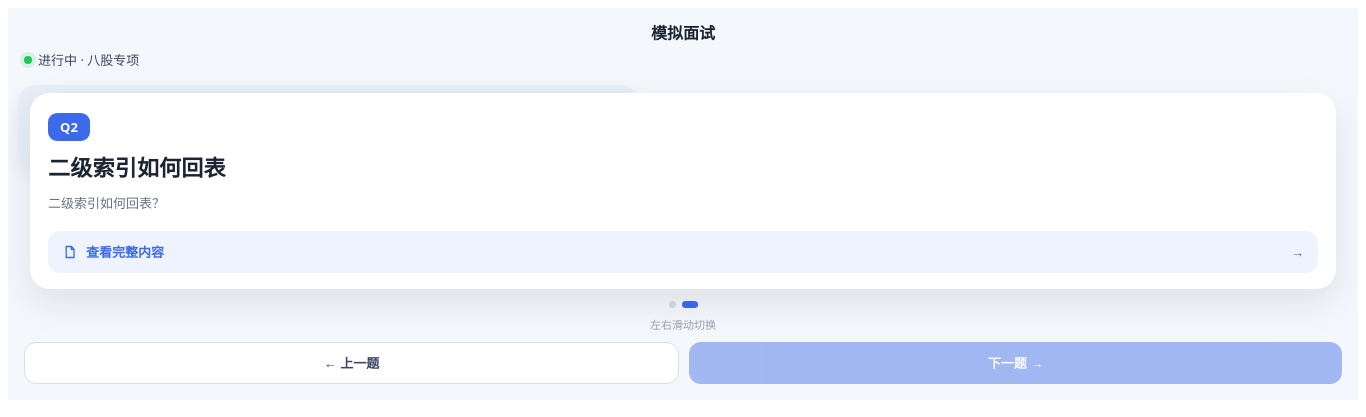
Test: InProgressPanel › switches card-id with prev/next across two cards
This screenshot has width=1366, height=417.
Expected: the text with test id "card-id" reads "Q2", [60, 118, 78, 136]
Expected: the heading "二级索引如何回表" is shown, [48, 152, 226, 182]
Click the button with test id "prev-card" at (352, 363), box [24, 342, 679, 384]
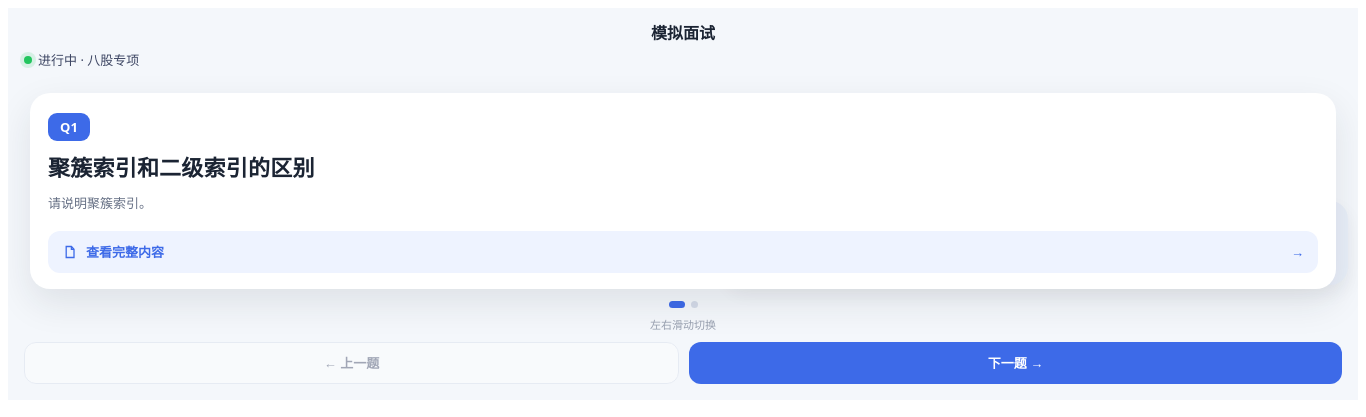
Result: the text with test id "card-id" reads "Q1" at [60, 118, 78, 136]
Click the button with test id "next-card" at (1016, 363), box [689, 342, 1342, 384]
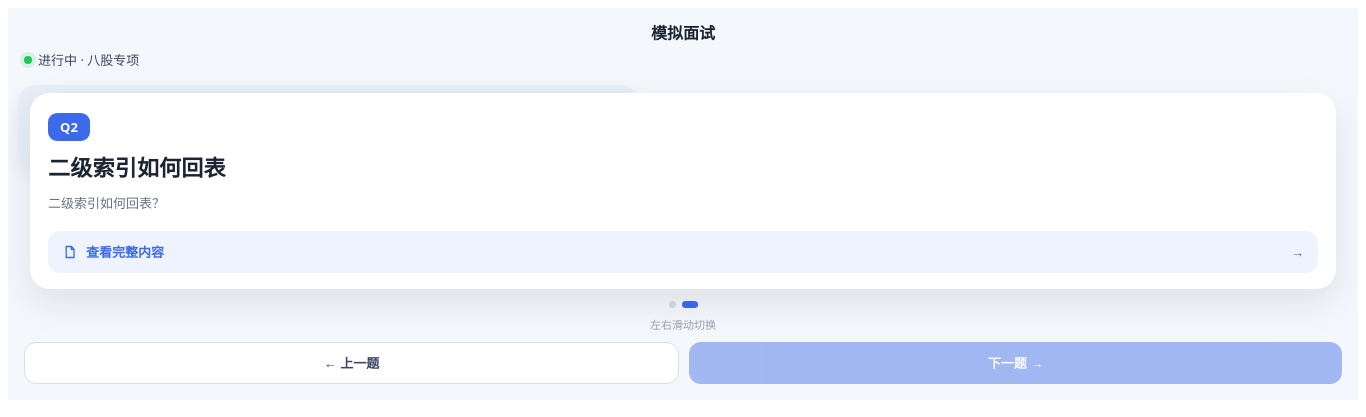
Result: the text with test id "card-id" reads "Q2" at [60, 118, 78, 136]
